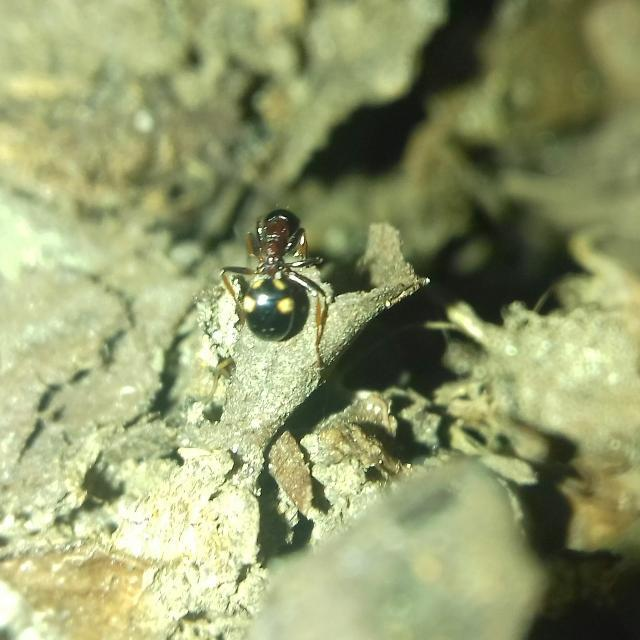Dolichoderus: (214, 191, 342, 355)
